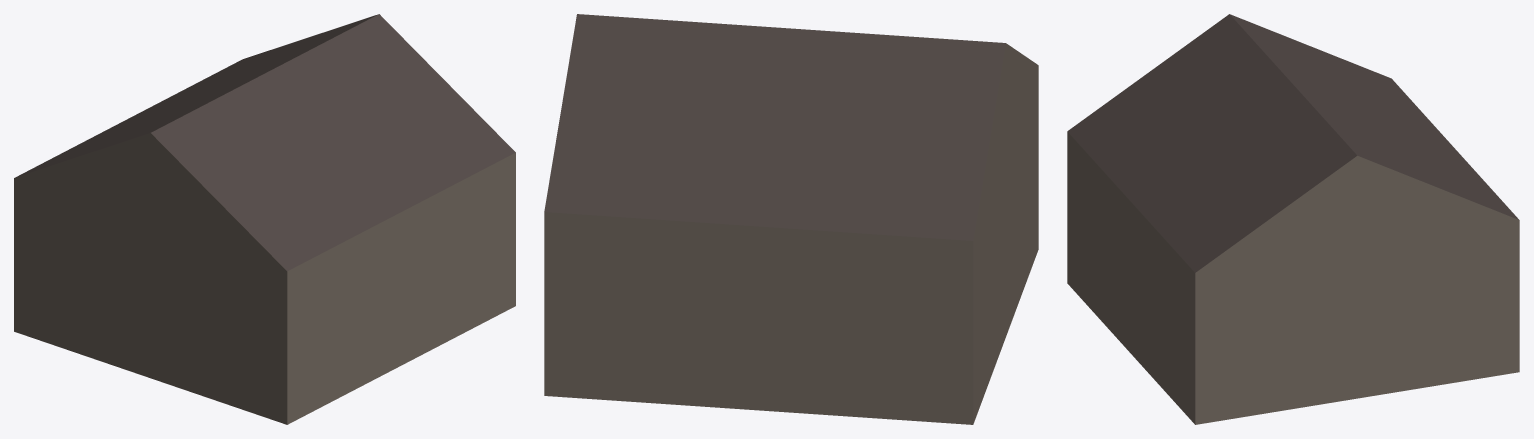
The picture shows the model from 3 angles, left to right: view 1: azimuth 30°, elevation 25°; view 2: azimuth 150°, elevation 25°; view 3: azimuth 270°, elevation 25°; orthographic projection. The views are drawn at different scales.
Parts seen in each view (by area): view 1: HP-w378107096; view 2: HP-w378107096; view 3: HP-w378107096.
Boxes of the visible parts, bbox=[...] form: HP-w378107096: bbox=[14, 14, 515, 424]; HP-w378107096: bbox=[544, 14, 1038, 424]; HP-w378107096: bbox=[1067, 14, 1519, 424].
Bounding box in the file's own units: 16.47 × 9.59 × 16.19.
